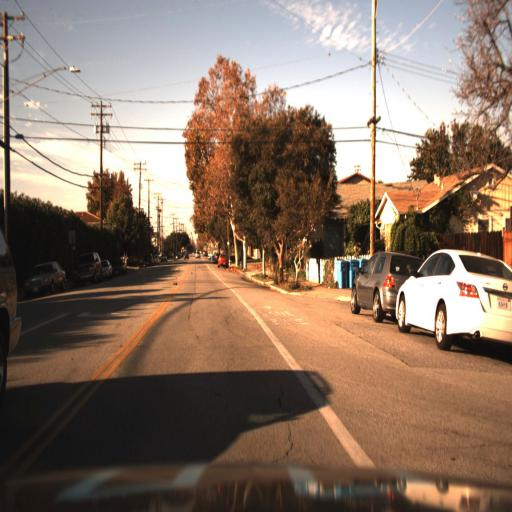car: (394, 248, 512, 356), (348, 248, 427, 325), (342, 233, 397, 330), (22, 258, 67, 294), (72, 248, 104, 290), (70, 251, 102, 291), (113, 251, 130, 280), (101, 252, 113, 283), (217, 252, 232, 269), (181, 248, 193, 266), (143, 251, 154, 270), (192, 246, 204, 260), (211, 251, 220, 264)
